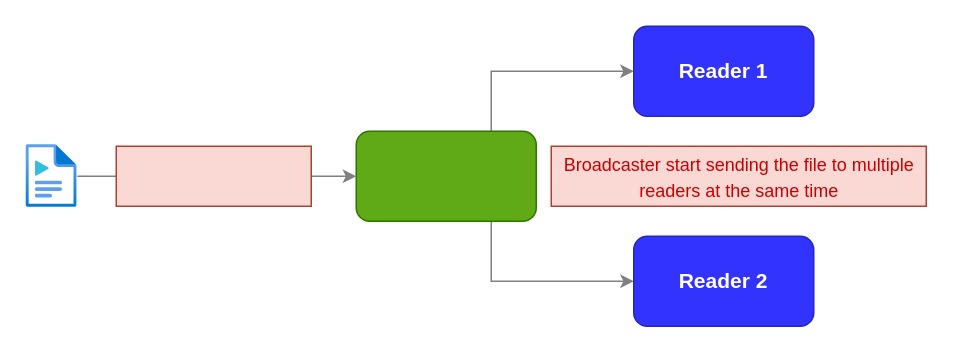
This 953x353 diagram has some shape labels left out. Each missing label, with the centre of its shape:
"Broadcaster" belongs at pixel 445 175.
"User start uploading the file to Broadcaster" belongs at pixel 213 175.
